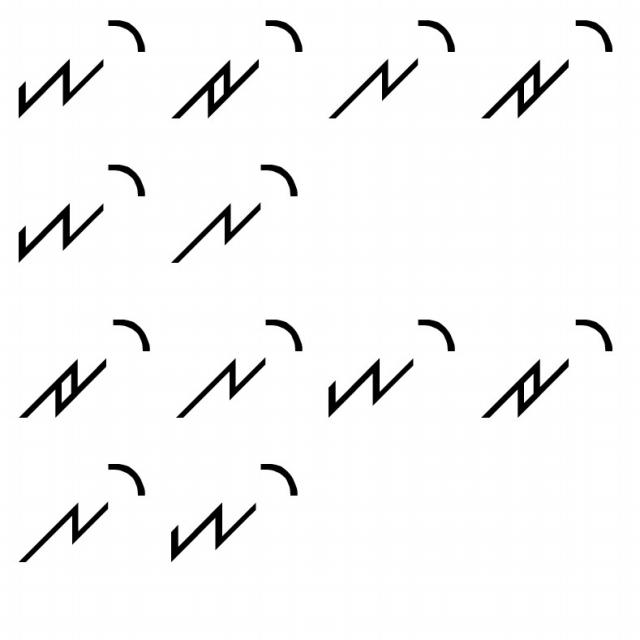lay: (320, 4, 458, 136), (7, 454, 148, 578), (167, 156, 305, 277), (177, 318, 305, 432)
ray: (474, 302, 620, 426), (472, 12, 619, 128), (160, 14, 310, 127), (13, 304, 155, 420)
yay: (164, 448, 302, 570), (320, 310, 458, 420), (9, 15, 150, 121), (10, 160, 152, 265)
